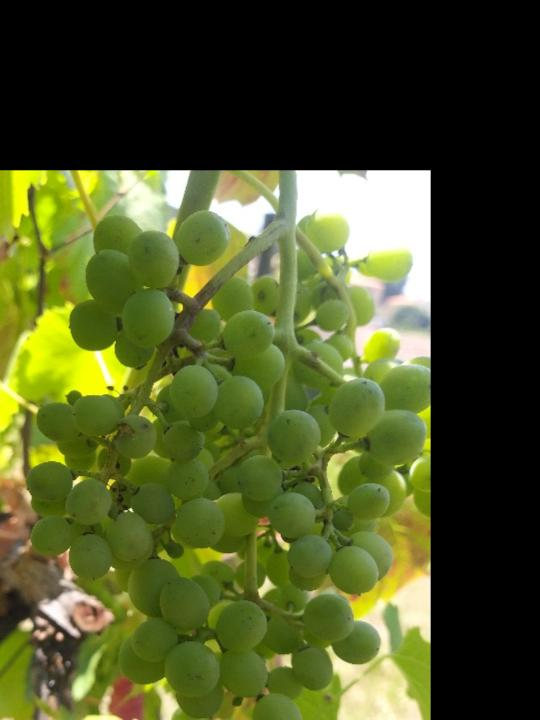grape: (23, 208, 429, 720)
